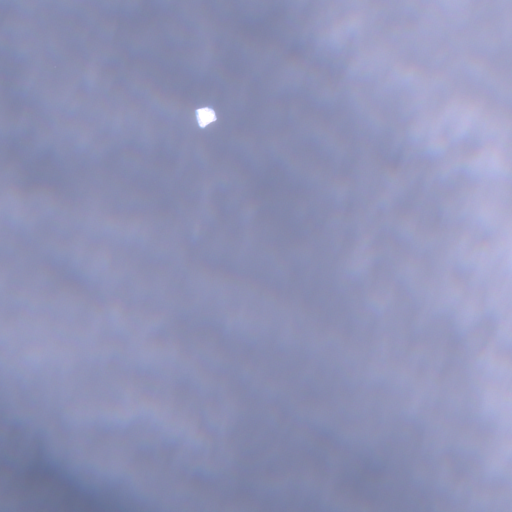Iceberg: (196, 107, 216, 127)
